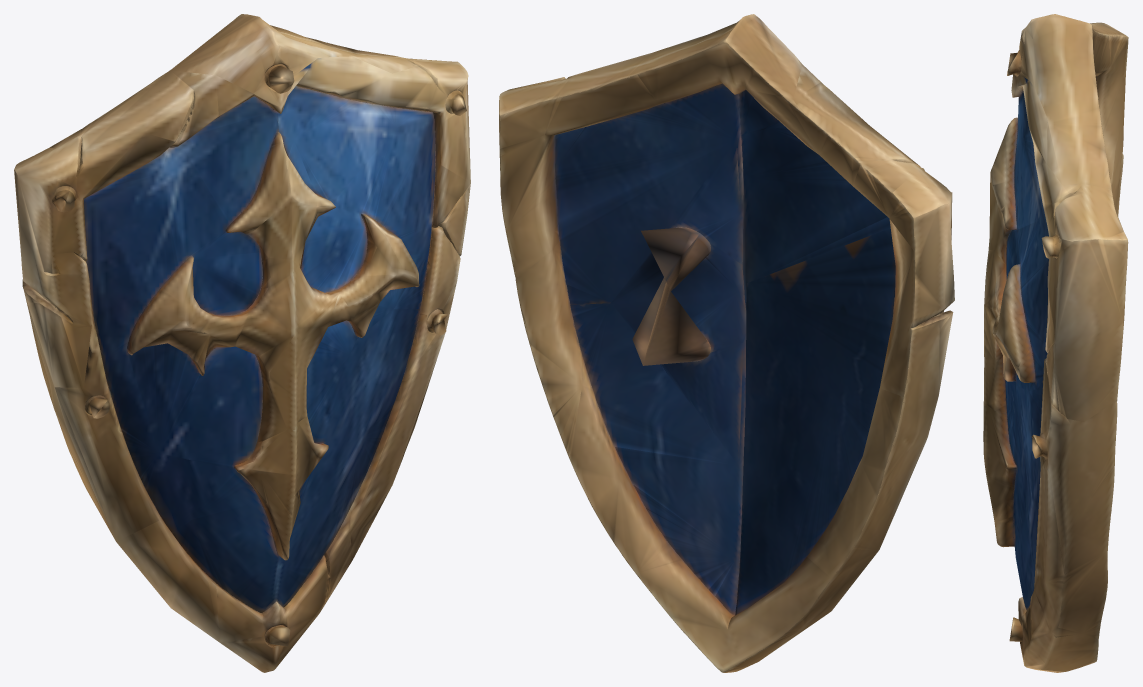
Rendered from item_shield.glb.
3 renders of one model, left to right at view 1: azimuth 30°, elevation 25°; view 2: azimuth 150°, elevation 25°; view 3: azimuth 270°, elevation 25°, orthographic.
Parts seen in each view (by area): view 1: model; view 2: model; view 3: model.
Part boxes in pixels (x1,y1,x2,y2): model: (14, 14, 470, 672); model: (499, 14, 954, 672); model: (983, 14, 1128, 672).
Size of the model in its own units: 0.4991 by 0.6976 by 0.1392.
Materials: 1 (1 with a texture image).
